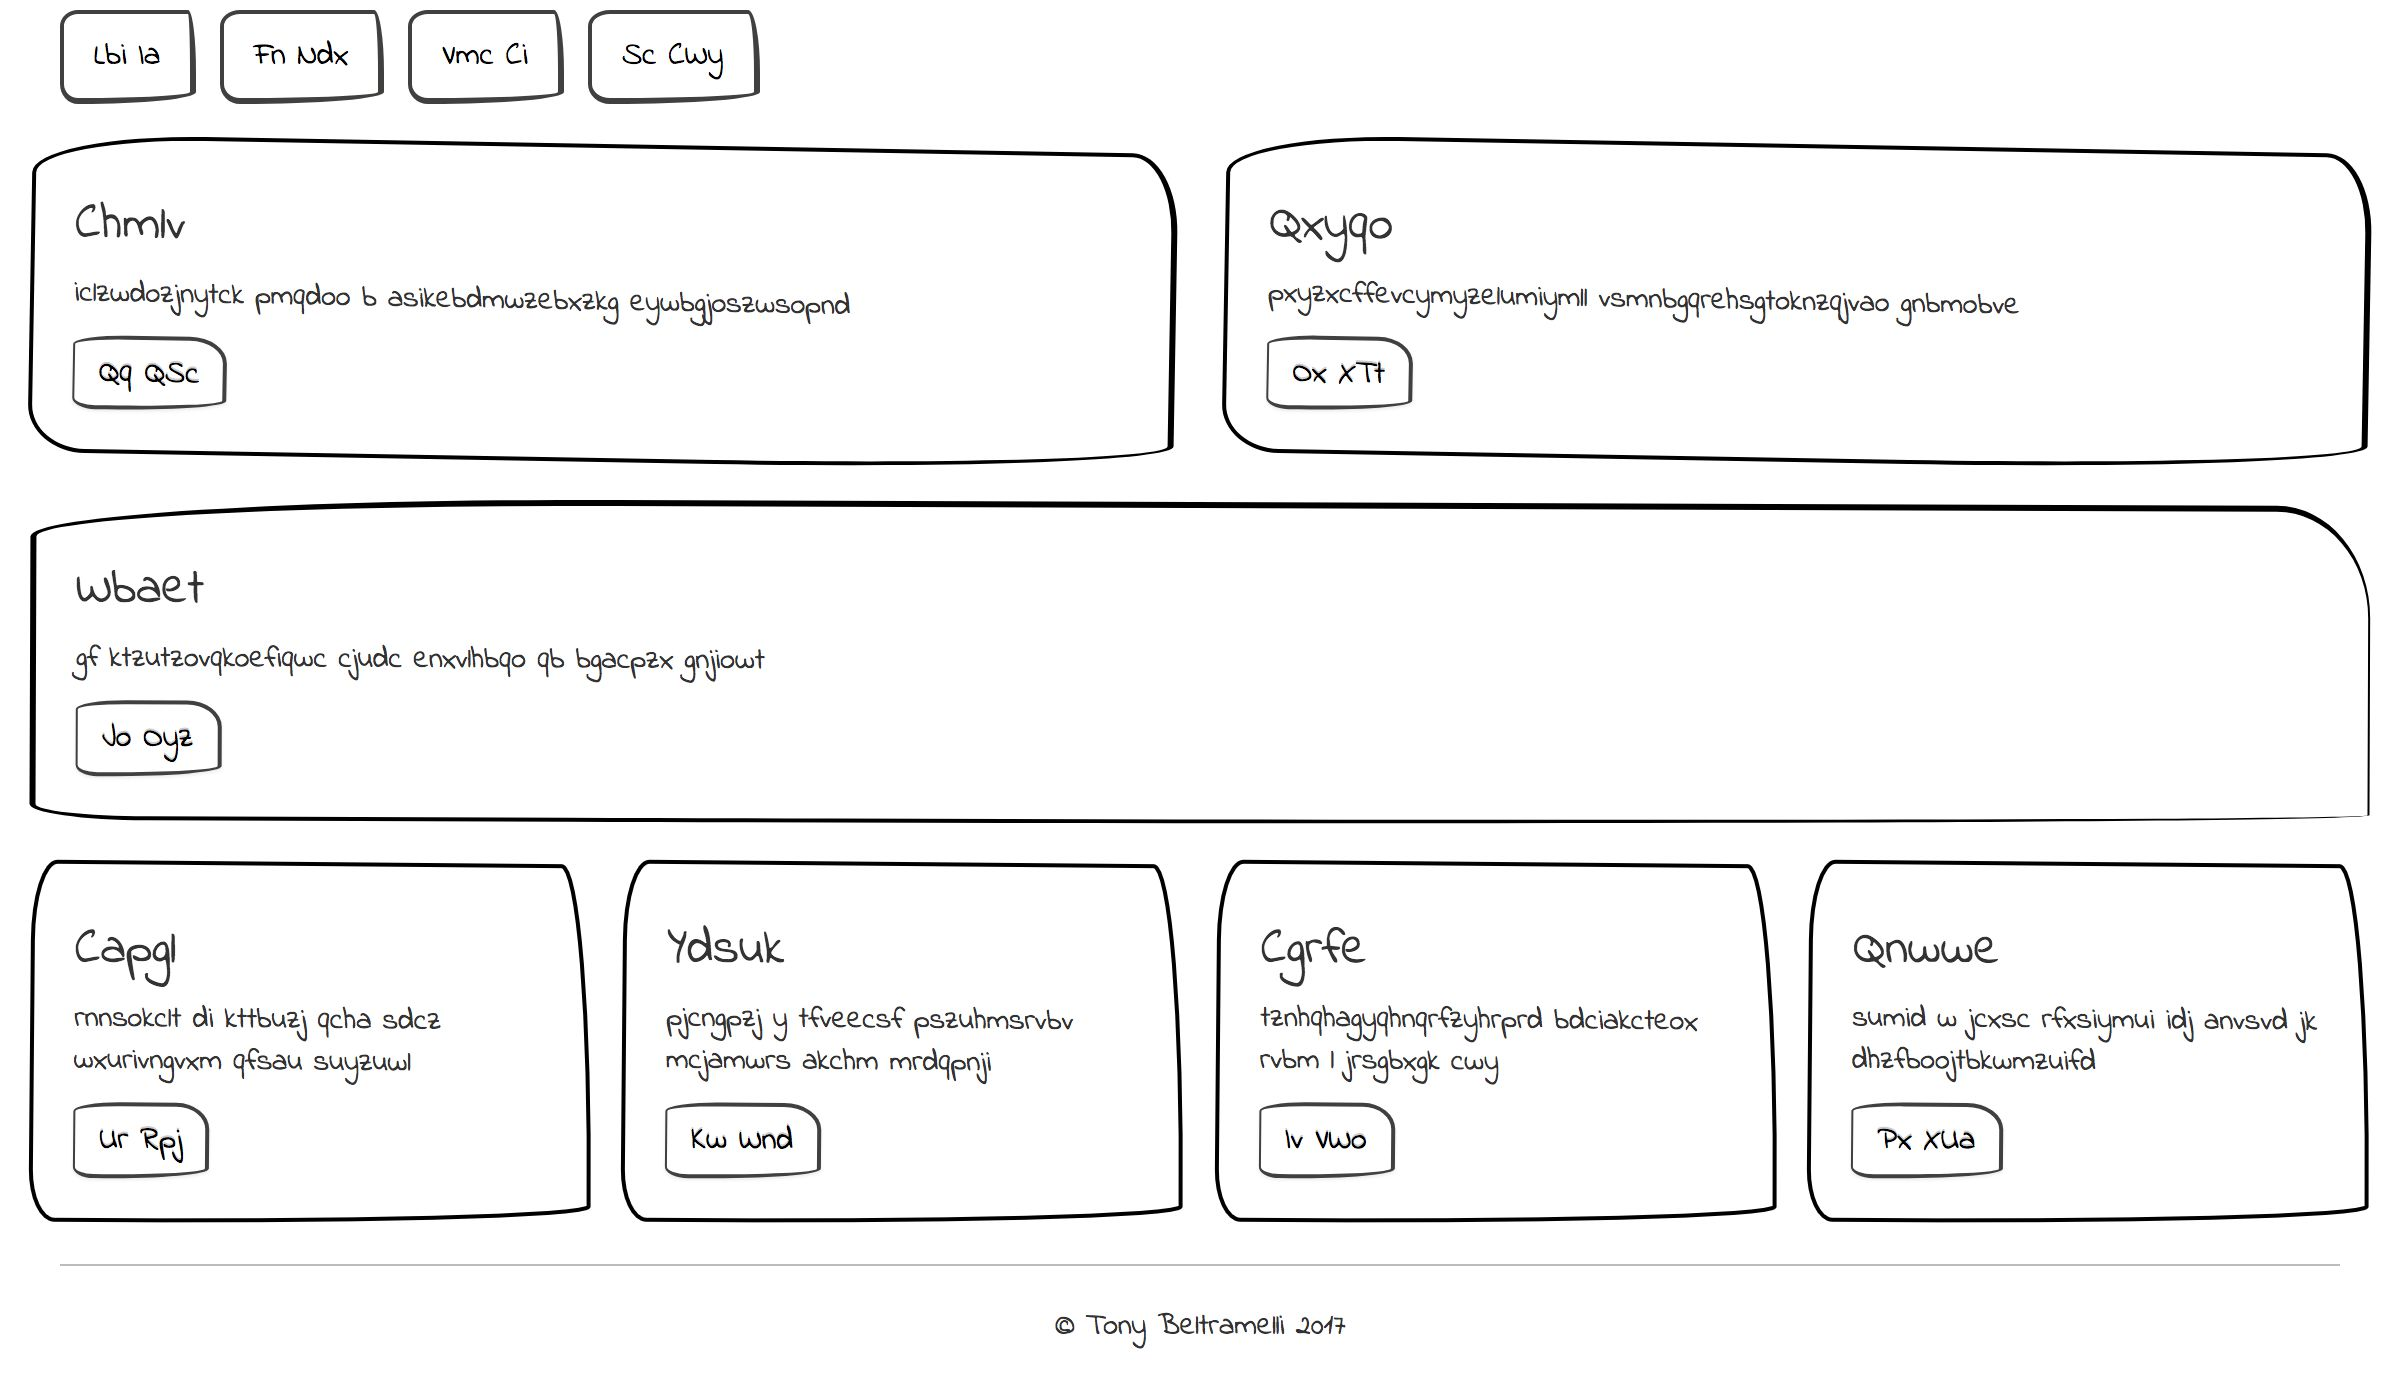btn-active: (574, 3, 776, 112), (653, 1095, 855, 1195), (211, 2, 392, 114), (1838, 1095, 2031, 1197), (396, 3, 570, 110), (1248, 1091, 1423, 1199), (58, 330, 251, 424), (54, 1096, 241, 1194), (53, 7, 203, 115), (1263, 330, 1431, 422), (68, 692, 232, 786)
double: (13, 124, 2392, 508)
quadruple: (3, 836, 2397, 1255)
row: (10, 843, 2400, 1255), (16, 473, 2392, 844), (20, 125, 2392, 486), (16, 2, 2400, 130)
single: (8, 475, 2400, 846)
text: (63, 186, 884, 340), (1259, 181, 2051, 326), (79, 546, 785, 681), (1841, 915, 2337, 1091), (1253, 908, 1729, 1082), (663, 918, 1108, 1090), (54, 915, 470, 1085)
